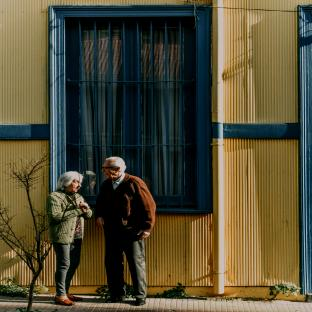Human: (95, 157, 156, 305), (46, 171, 94, 306)
